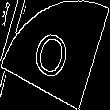O_SW: (32, 22, 78, 88)
